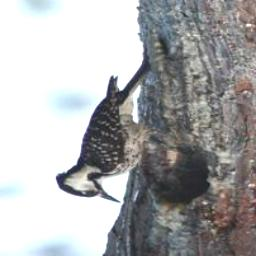Woodpecker: (52, 60, 190, 206)
